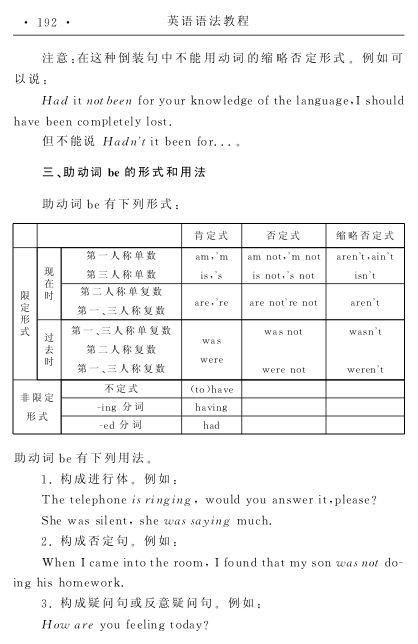table: (13, 223, 404, 435)
